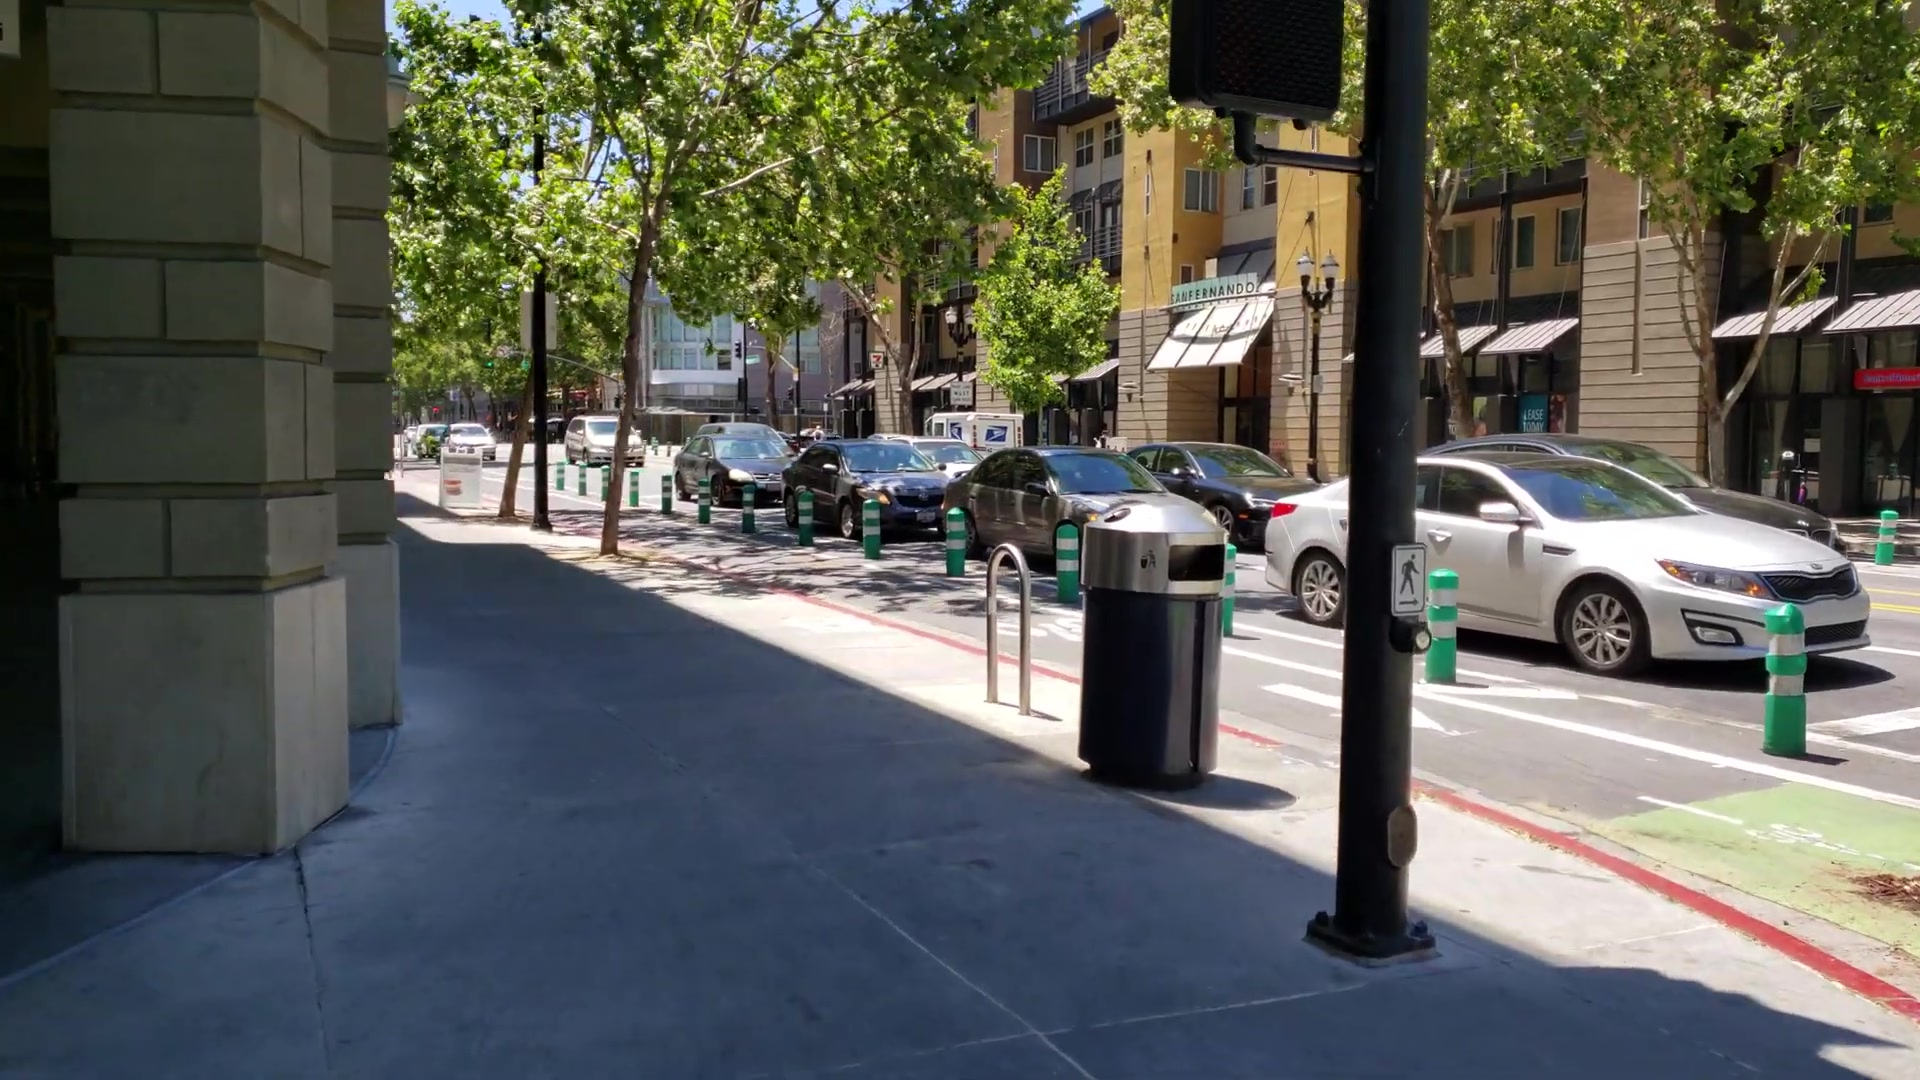vehicle: (1267, 450, 1874, 670), (789, 442, 942, 534), (673, 434, 782, 500)
